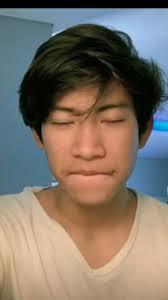Drowsy: (24, 14, 161, 206)
